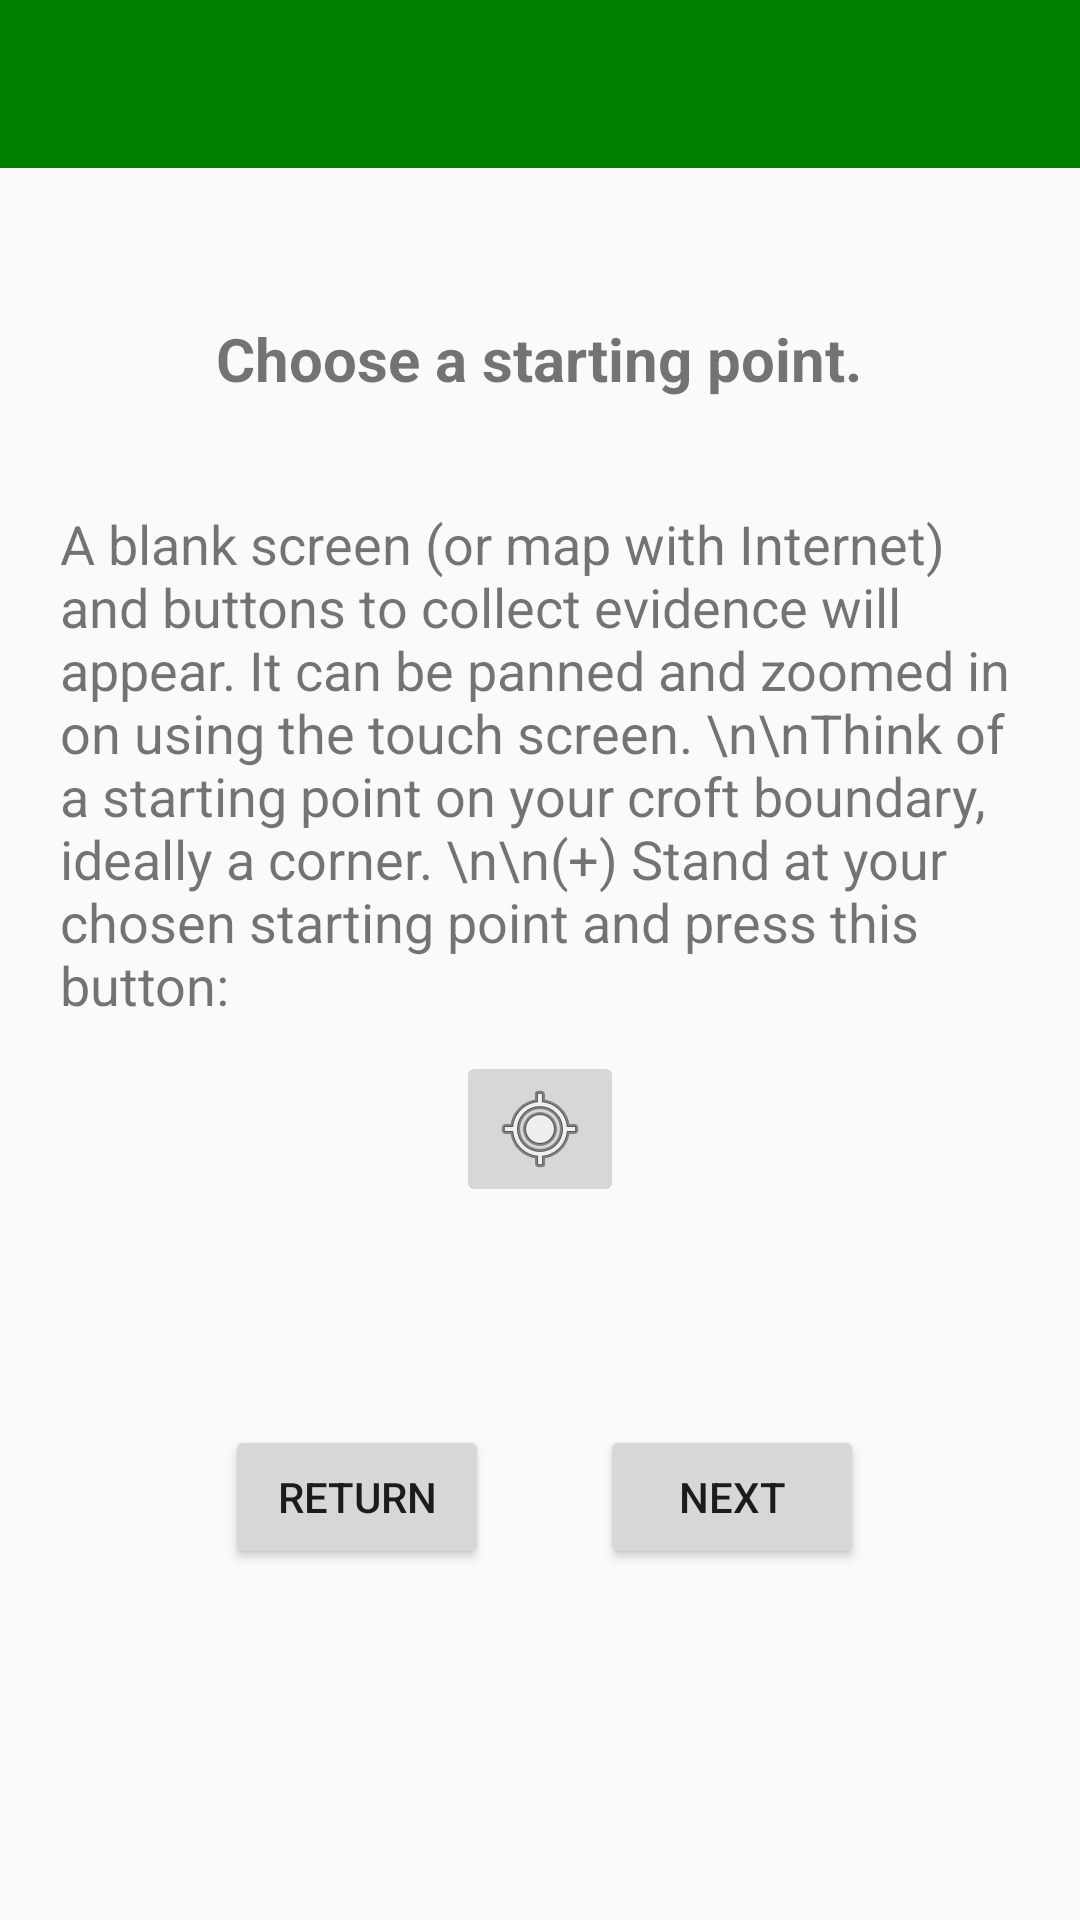

Named icons in this screenshot (1080 × 1920) and their centers, (x=x, y=y):
mylocation: (x=540, y=1129)
